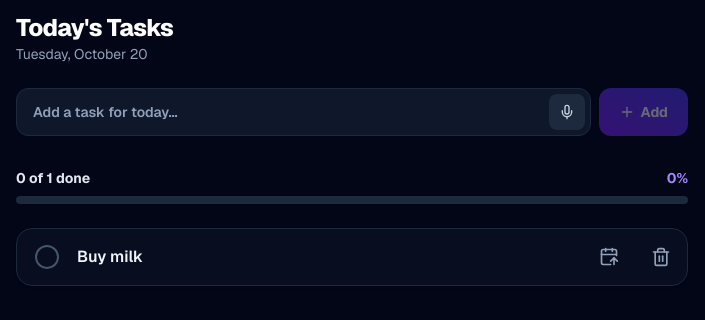
Daily tasks › ticks a task as done and moves it to the Done section
Click the checkbox named "Mark \"Buy milk\" as done" at x=47, y=257, box [25,235,69,279]
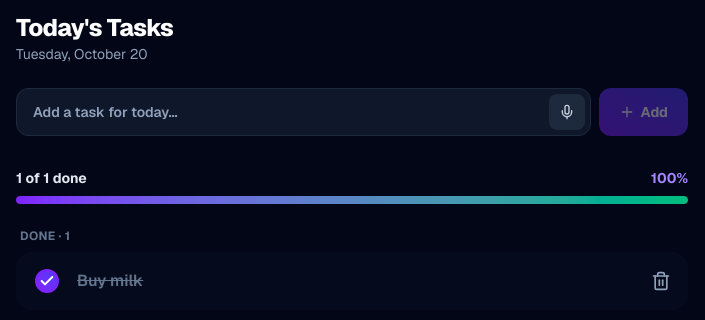
Check: the text "1 of 1 done" is shown, box [16,168,87,188]
